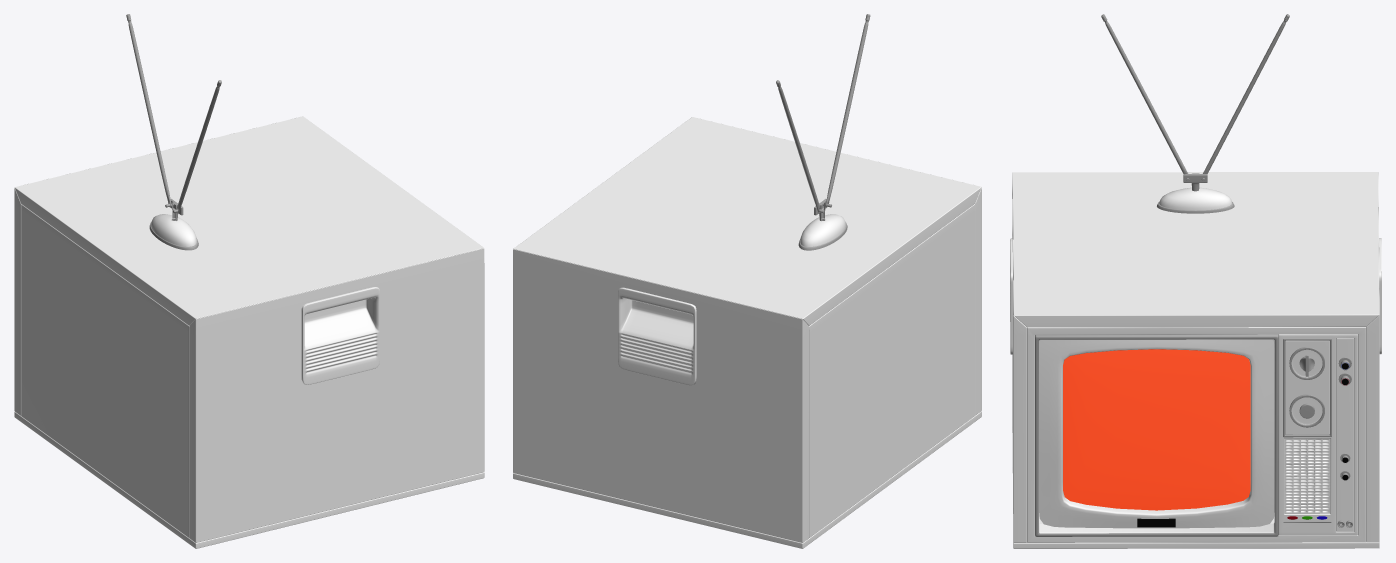
The model's file is TV-clean-draco.glb.
3 views of the same model, side by side, from view 1: azimuth 30°, elevation 25°; view 2: azimuth 150°, elevation 25°; view 3: azimuth 270°, elevation 25° (orthographic).
Parts seen in each view (by area): view 1: Cube.025, Cube.013, Cube.018, Cube.011, Cube.015, Cylinder.005, Cylinder.015, Cylinder.007; view 2: Cube.025, Cube.013, Cube.018, Cube.011, Cube.015, Cylinder.005, Cylinder.007, Cylinder.015; view 3: Cube.013, Screen, Cube.021, Cube.018, Cube.025, Cube.024, Cube.022, Cube.016, Cube.020, Cube.015, Cube.017, Cylinder.005 (+6 smaller).
Part boxes in pixels (x1,y1,x2,y2): Cube.025: (14, 188, 484, 542); Cube.013: (15, 116, 483, 325); Cube.018: (21, 204, 189, 537); Cube.011: (301, 287, 379, 384); Cube.015: (14, 412, 484, 548); Cylinder.005: (151, 214, 196, 246); Cylinder.015: (126, 14, 171, 207); Cylinder.007: (176, 80, 221, 212); Cube.025: (513, 187, 981, 542); Cube.013: (513, 117, 981, 325); Cube.018: (809, 204, 975, 537); Cube.011: (618, 287, 696, 385); Cube.015: (513, 411, 981, 548); Cylinder.005: (800, 214, 845, 246); Cylinder.007: (825, 14, 870, 207); Cylinder.015: (776, 80, 820, 212); Cube.013: (1012, 172, 1379, 327); Screen: (1063, 349, 1250, 510); Cube.021: (1039, 339, 1274, 528); Cube.018: (1027, 327, 1365, 542); Cube.025: (1012, 172, 1379, 542); Cube.024: (1278, 334, 1357, 535); Cube.022: (1035, 334, 1278, 536); Cube.016: (1284, 438, 1330, 513); Cube.020: (1336, 338, 1354, 531); Cube.015: (1012, 427, 1379, 548); Cube.017: (1285, 340, 1329, 434); Cylinder.005: (1159, 187, 1232, 210).
Bounding box in the file's own units: 0.8853 × 1.22 × 0.9471.
